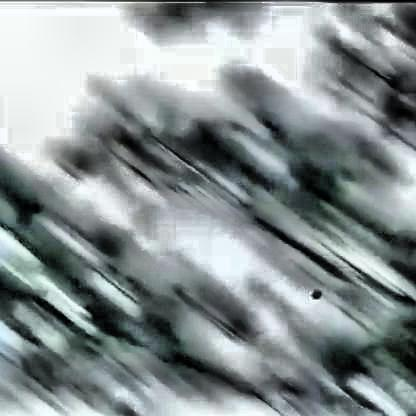golfball: (307, 285, 320, 298)
